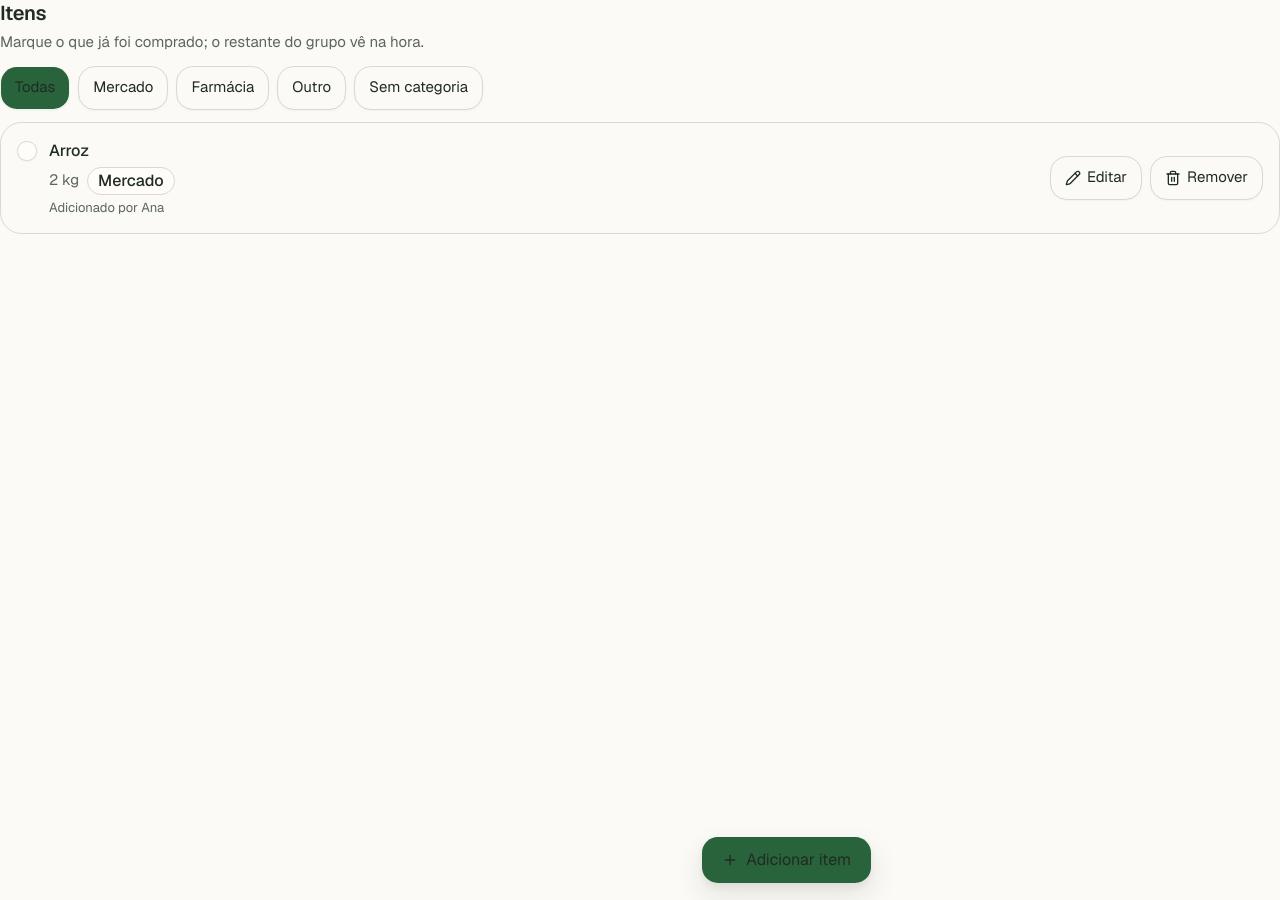
it: ListItemsPanel › finishes a category change under an active filter after the server confirms it
Click the button "Mercado": (123, 88) [78,66,168,110]
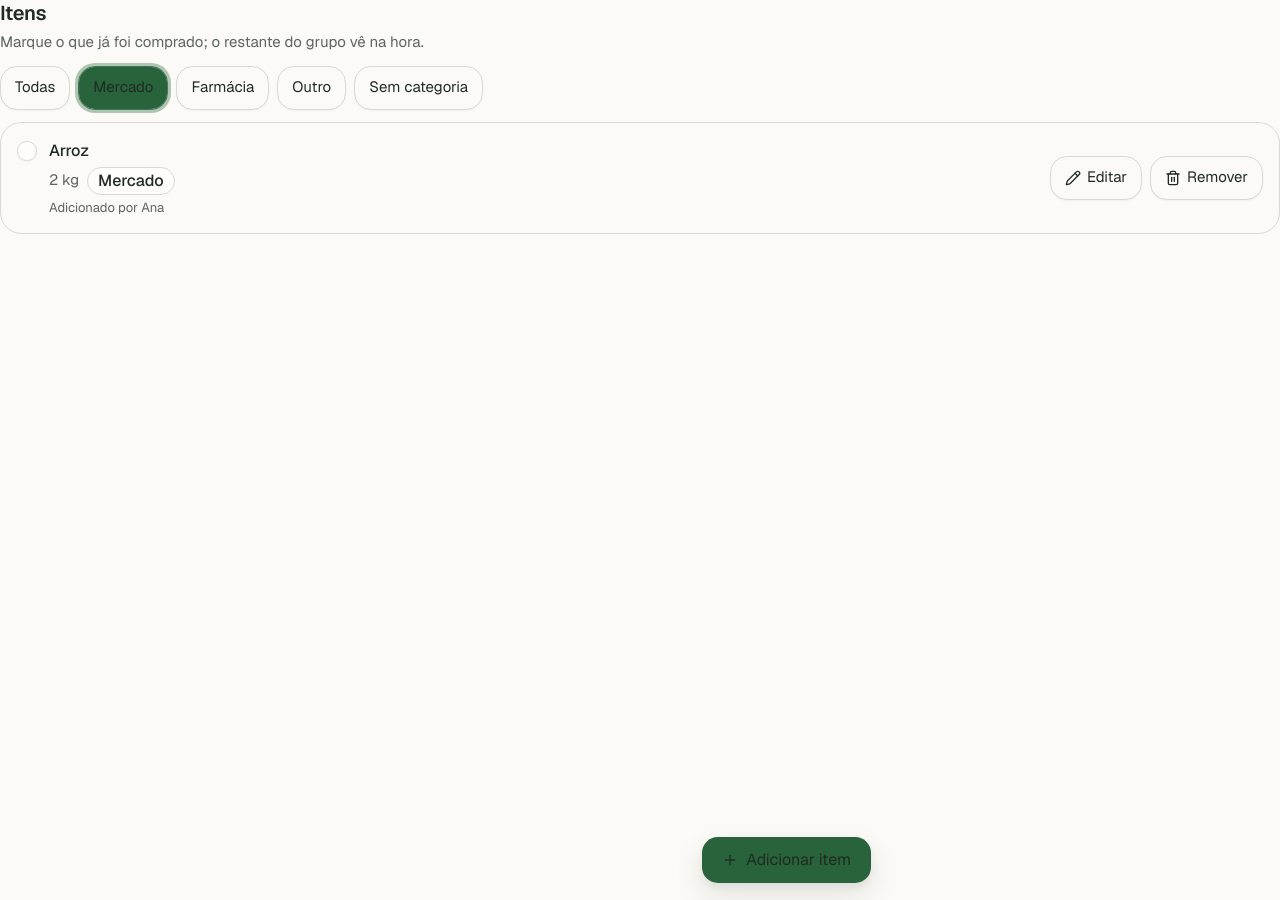
Click the button "Editar": (1096, 178) [1050,156,1142,200]
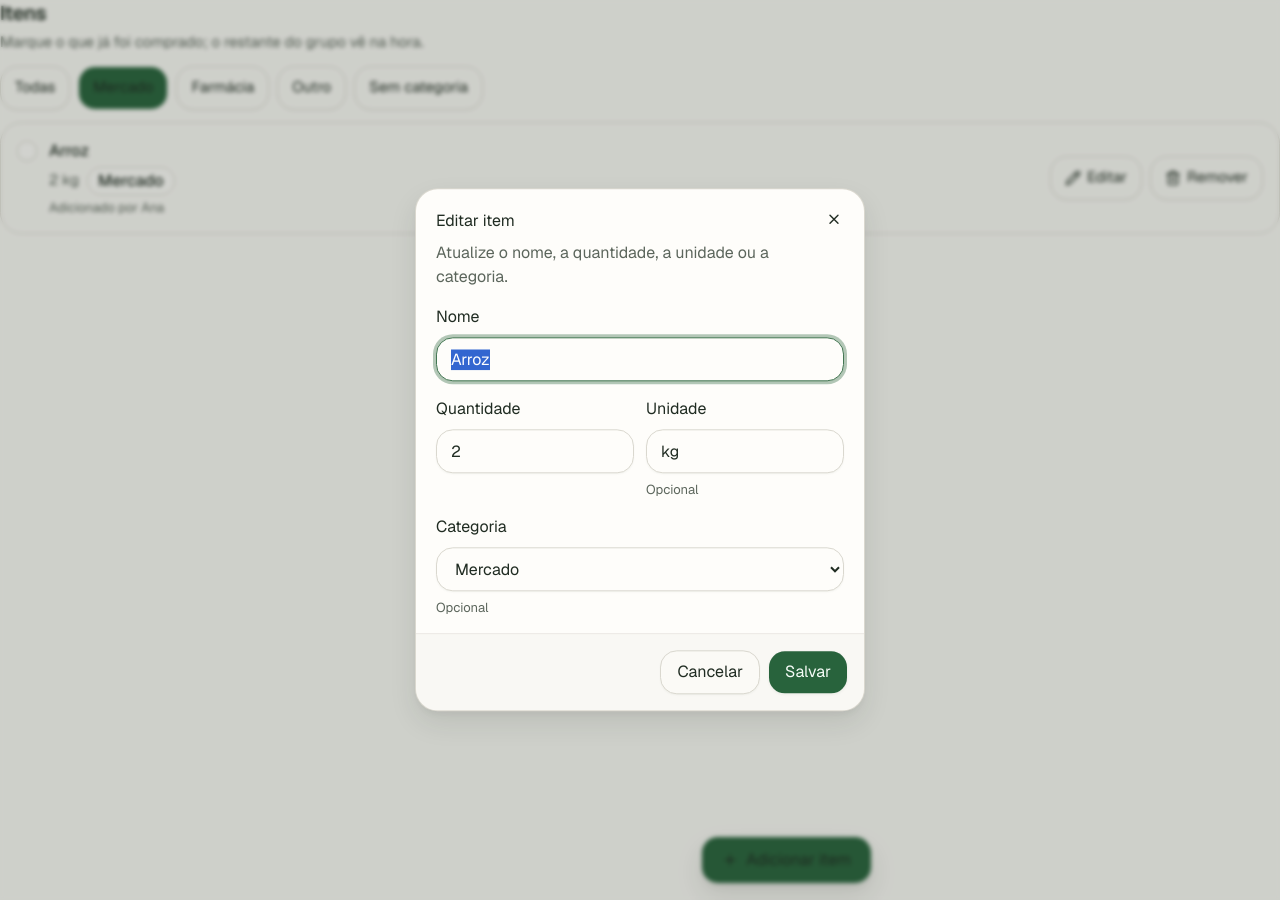
Select "Farmácia" in the dropdown labelled "Categoria": (640, 570) [436,548,844,592]
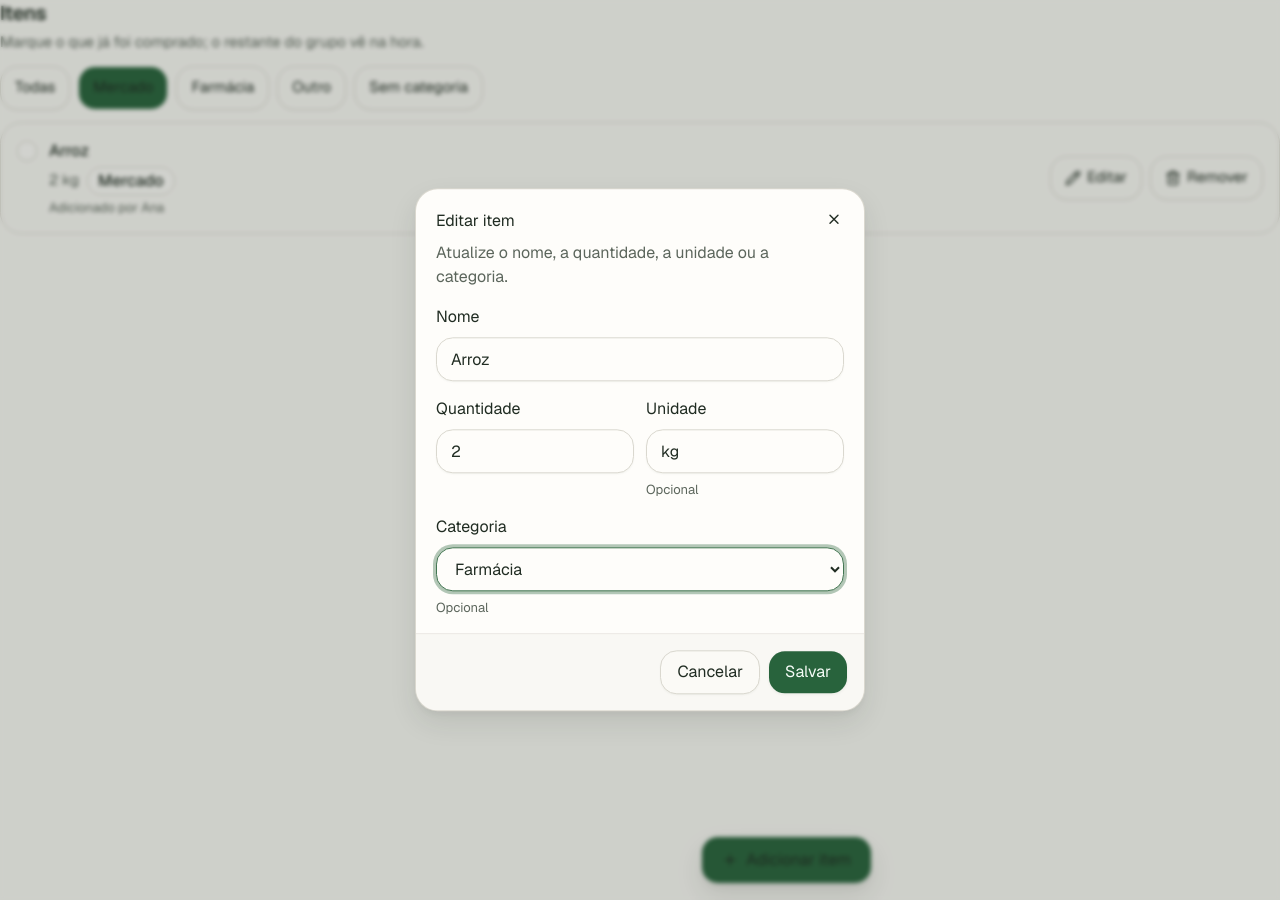
Click the button "Salvar": (808, 673) [768,651,848,695]
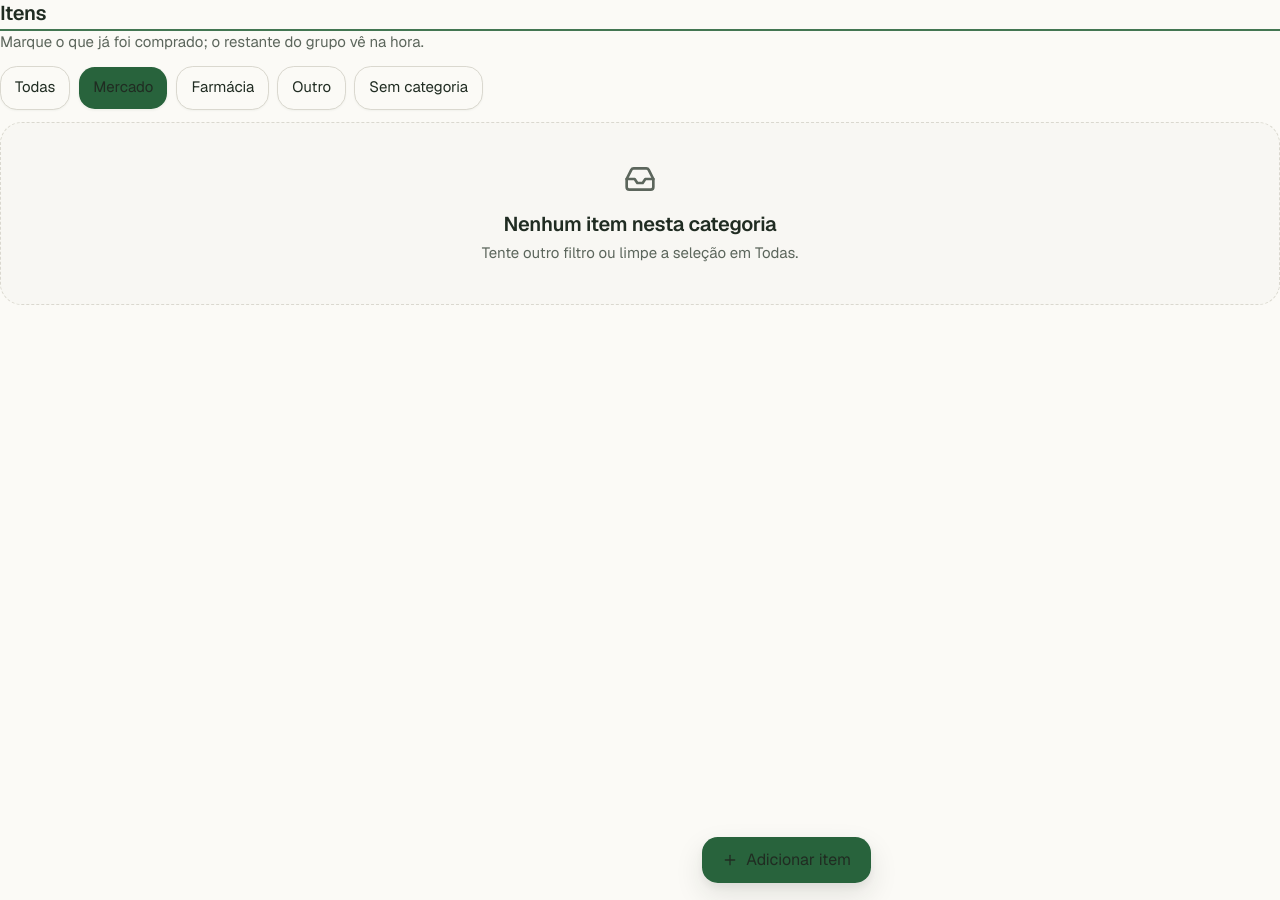
Now the dialog is gone
Now the text "Arroz" is gone
Now the text "Nenhum item nesta categoria" is shown, box [482,210,798,238]
